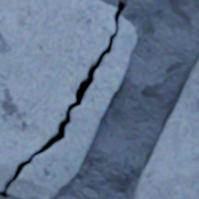brick: (132, 58, 198, 198)
broken_brick: (7, 16, 136, 198), (0, 0, 115, 190)
crack: (0, 1, 125, 197)
